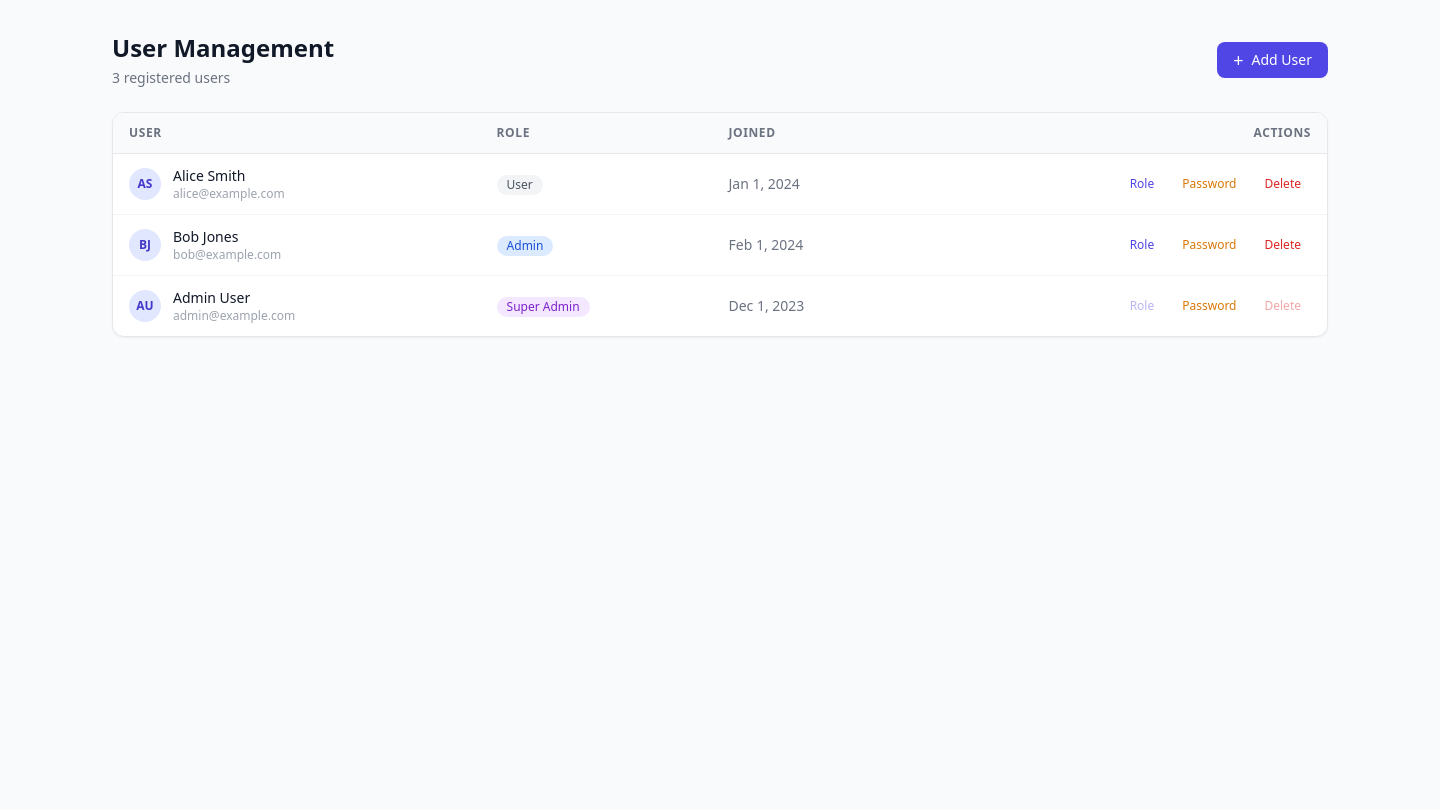
Scenario: Admin — ChangeRoleModal › closes the modal when Cancel is clicked
The width and height of the screenshot is (1440, 810).
Click the button "Role" in the row of "Alice Smith". click: (1142, 184)
box: left=1120, top=172, right=1164, bottom=196
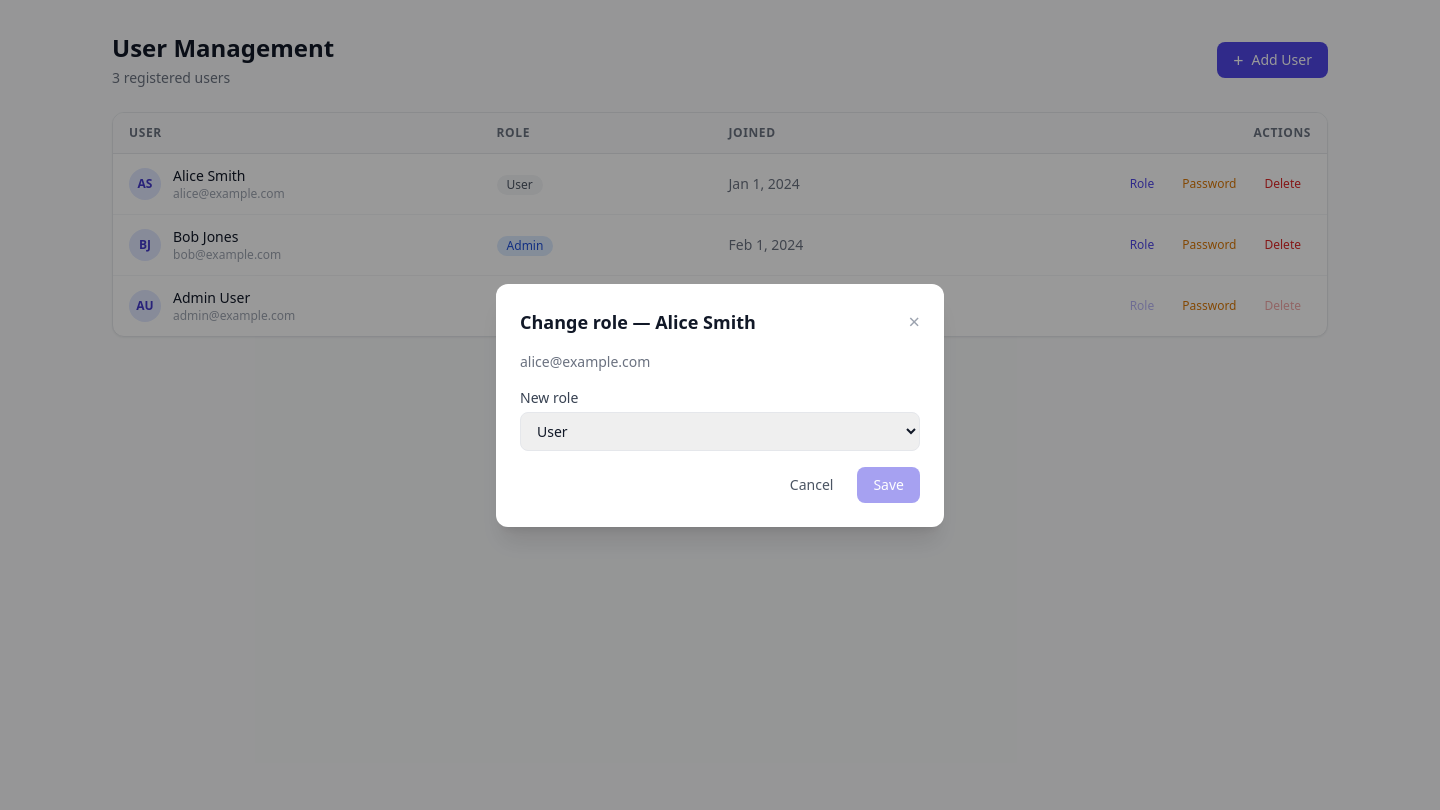
Expected: the heading "Change role — Alice Smith" is shown, left=520, top=308, right=756, bottom=336
Click the button "Cancel". click: (812, 484)
box: left=774, top=466, right=849, bottom=502
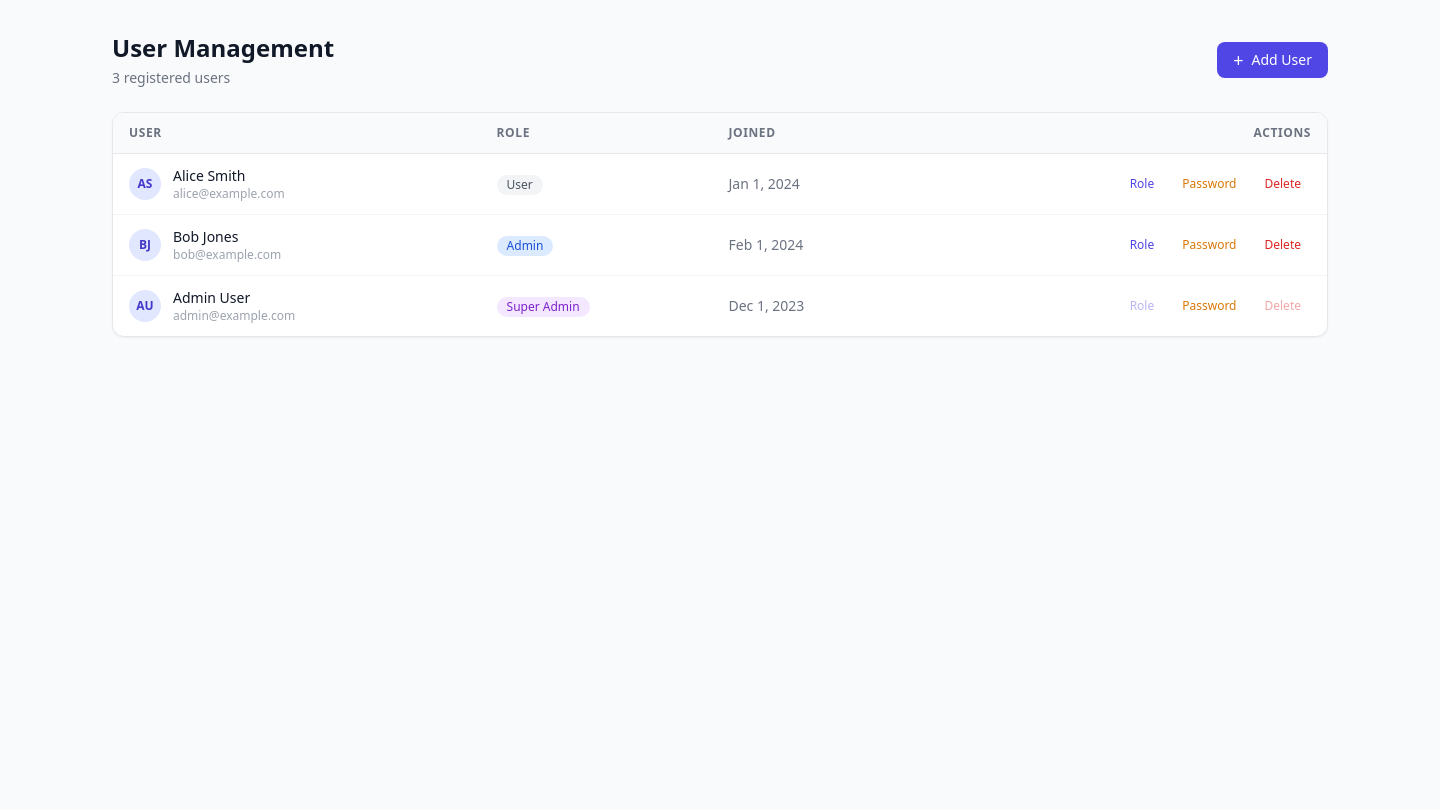
Expected: the heading "Change role — Alice Smith" is gone
